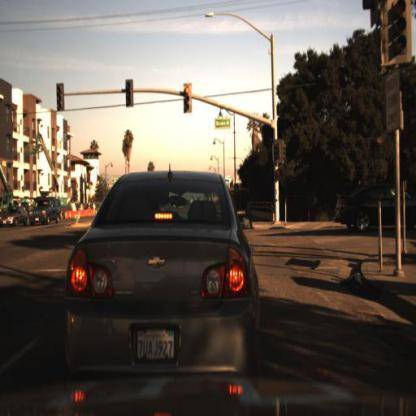car: (57, 164, 268, 410), (331, 179, 416, 237), (28, 192, 65, 226), (29, 196, 62, 230), (1, 204, 33, 227)
trafficLight: (381, 1, 416, 77), (183, 82, 193, 116), (55, 83, 66, 111)
trafficLight-Red: (274, 134, 286, 168), (124, 76, 135, 108)
